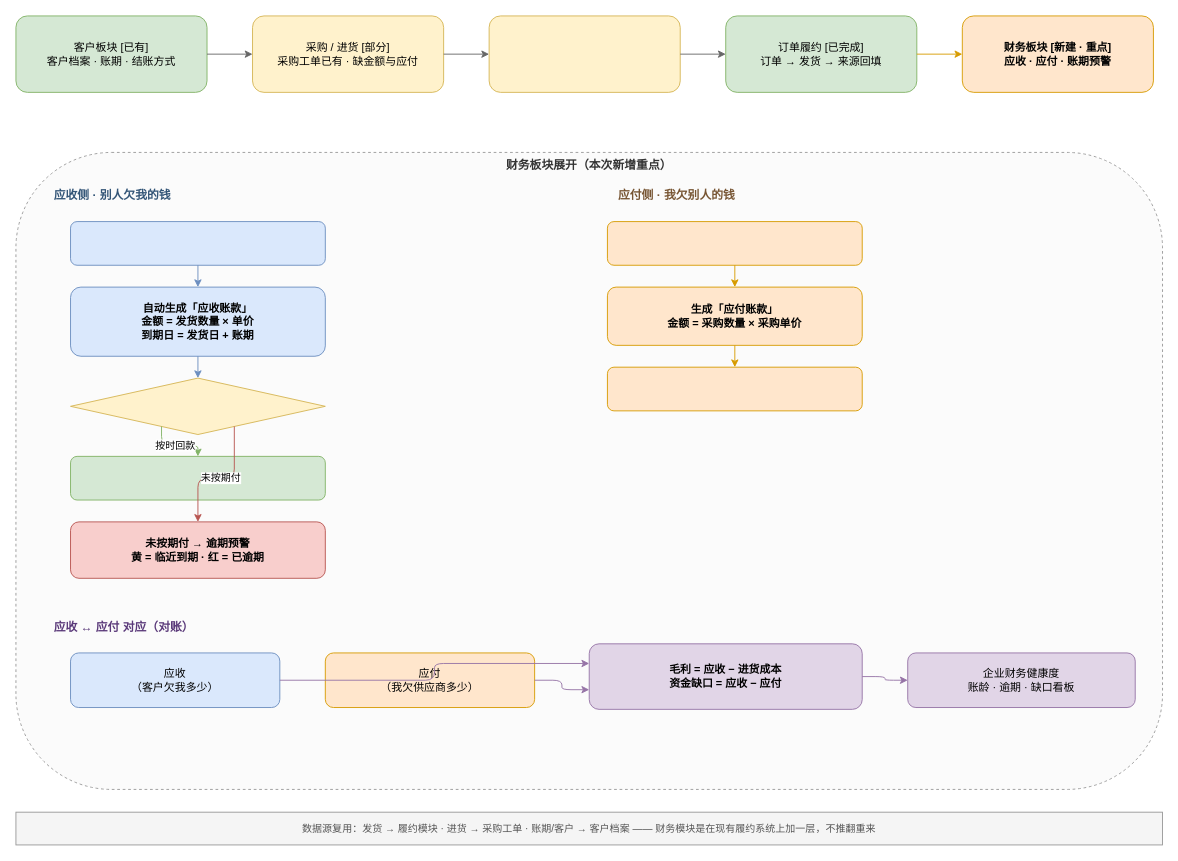
Image size: 1178x861. Some labels were removed from this diagram. The box of each missing label's shape, as (x1, y1, x2, y2) in pixels:
到期付款 → 冲销应付: (607, 366, 862, 411)
到期判断 （账期到没到 / 是否回款）: (70, 377, 325, 435)
发货完成（履约模块触发）: (70, 221, 325, 265)
库存板块 [部分] 数量已有 · 缺成本金额: (488, 15, 680, 92)
按时回款 → 冲销应收（正常）: (70, 455, 325, 500)
采购完成（进货触发）: (607, 221, 862, 265)
